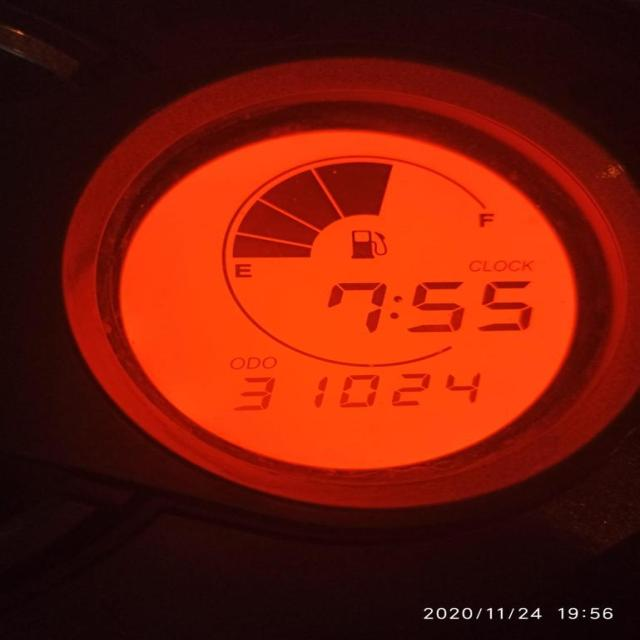odometer: (108, 120, 592, 477)
